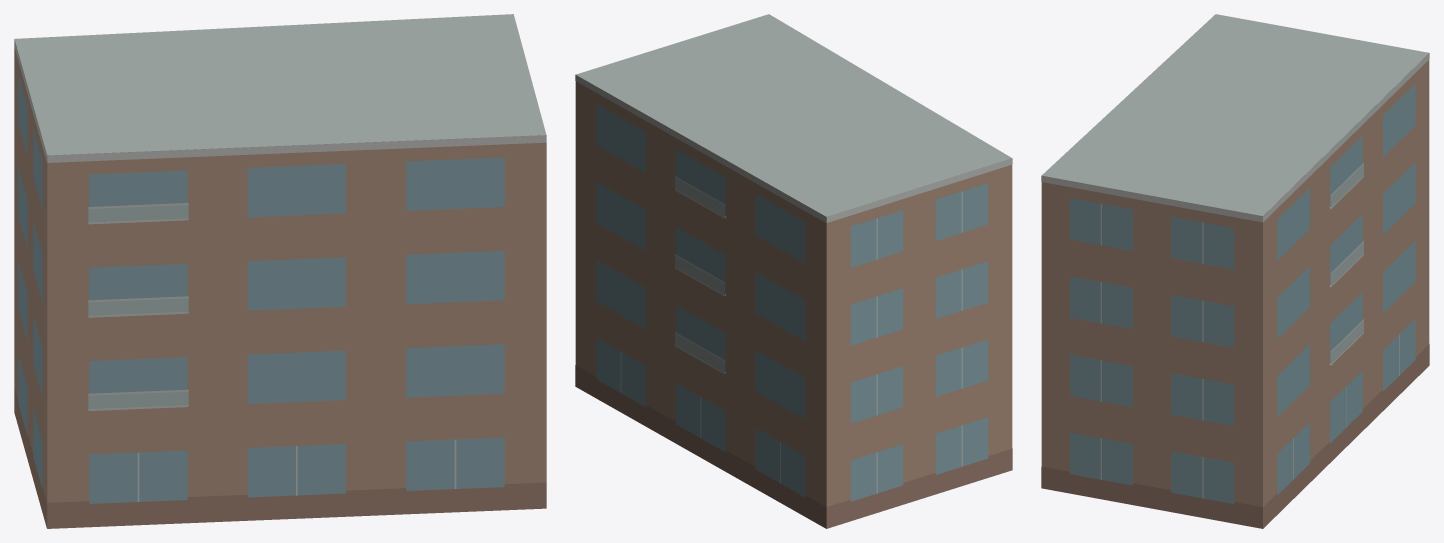
File: survey-upis-32529952.glb
3 renders of one model, left to right at view 1: azimuth 30°, elevation 25°; view 2: azimuth 150°, elevation 25°; view 3: azimuth 270°, elevation 25°, orthographic. The views are drawn at different scales.
Visible parts, largest first — view 1: survey-upis-32529952.tmp; view 2: survey-upis-32529952.tmp; view 3: survey-upis-32529952.tmp.
Part boxes in pixels (x1=…): survey-upis-32529952.tmp: x1=14, y1=14, x2=546, y2=528; survey-upis-32529952.tmp: x1=575, y1=14, x2=1012, y2=528; survey-upis-32529952.tmp: x1=1041, y1=14, x2=1429, y2=528.
Size of the model in its own units: 16.72 by 12.05 by 13.56.
